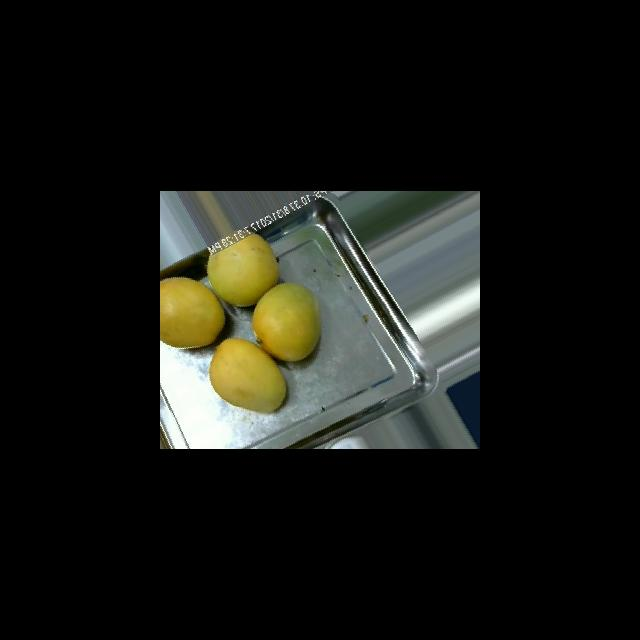Mango: (208, 337, 288, 414), (252, 282, 321, 361), (206, 233, 279, 307), (160, 276, 225, 349)
